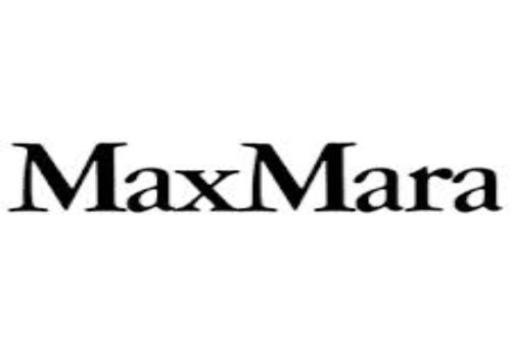MAX-MARA: (7, 137, 502, 212)
